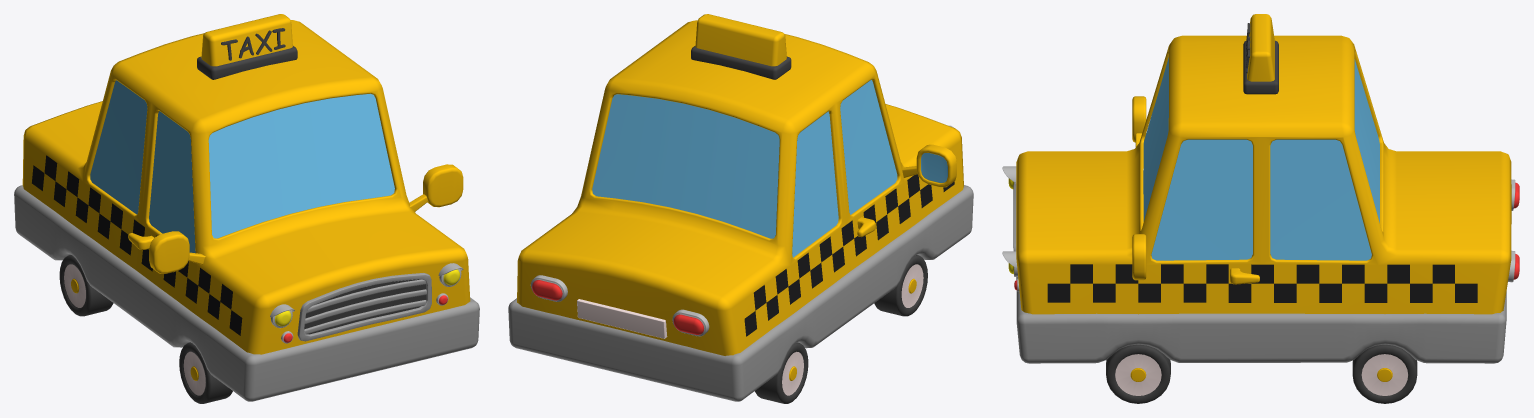
Rendered from City_7_Taxi_1.glb.
The picture shows the model from 3 angles, left to right: view 1: azimuth 30°, elevation 25°; view 2: azimuth 150°, elevation 25°; view 3: azimuth 270°, elevation 25°; orthographic projection. The views are drawn at different scales.
Parts seen in each view (by area): view 1: City_7_Taxi_1; view 2: City_7_Taxi_1; view 3: City_7_Taxi_1.
Boxes of the visible parts, x1=… form: City_7_Taxi_1: x1=14, y1=14, x2=479, y2=403; City_7_Taxi_1: x1=508, y1=14, x2=973, y2=403; City_7_Taxi_1: x1=1002, y1=14, x2=1519, y2=403.
Size of the model in its own units: 3.04 by 2.87 by 4.27.
1 material, 1 textured.
